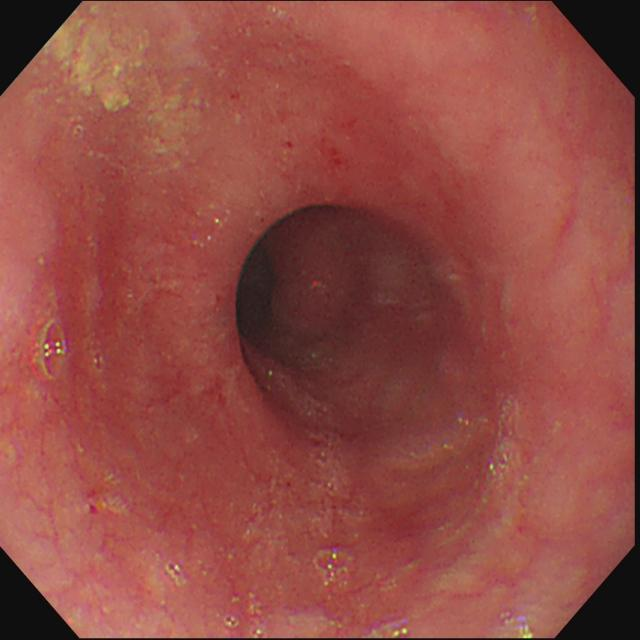E: (228, 194, 457, 450)
J: (45, 14, 191, 152)
T: (38, 318, 71, 385), (306, 540, 355, 584)
